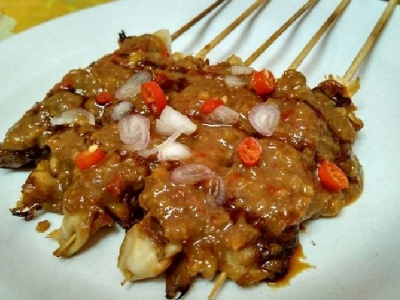sate: (14, 9, 386, 271)
